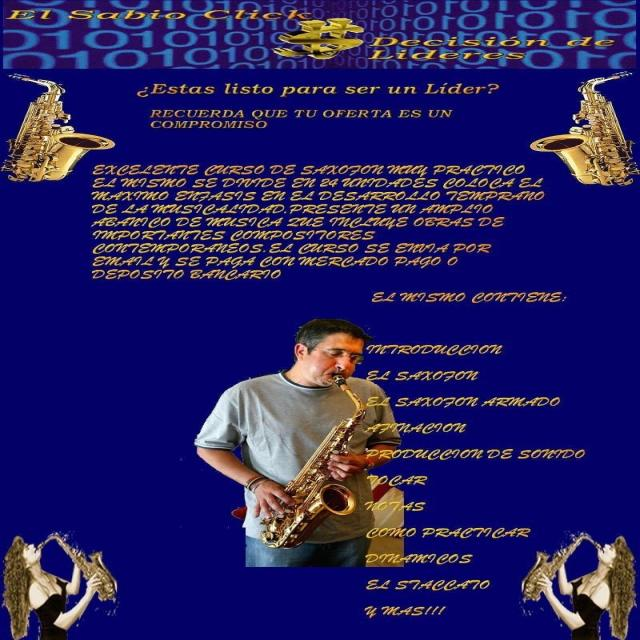saxophone: (256, 374, 372, 552), (0, 73, 119, 186), (528, 68, 637, 190), (27, 532, 128, 602), (519, 530, 604, 604)
